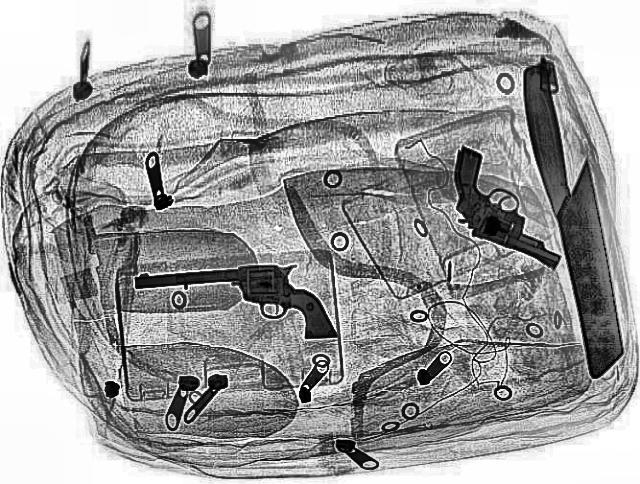Gun: (404, 144, 608, 268), (132, 260, 336, 350)
Knife: (516, 60, 628, 380)
